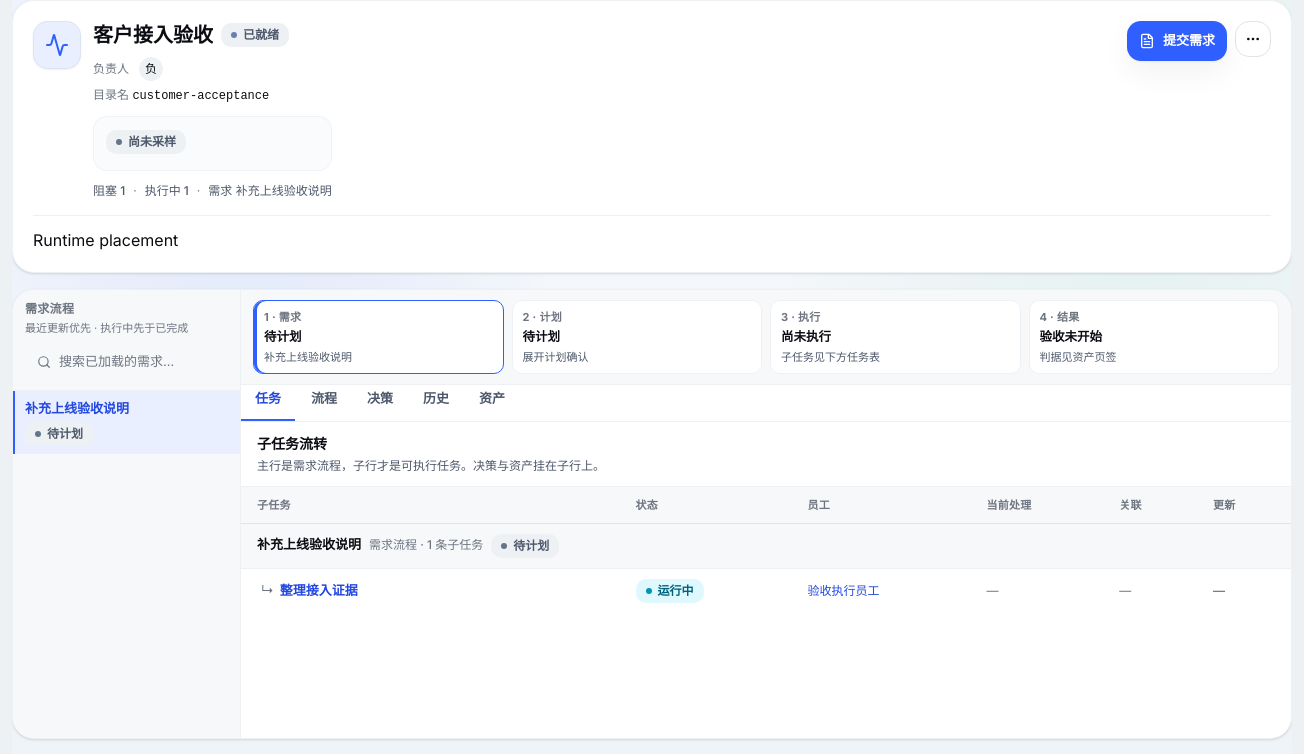
Scenario: ProjectOperationalDetail › keeps plan review read-only in the pipeline plan cell (inbox is the write entry)
Click the button with test id "demand-river-plan" at (637, 337), box [512,300,762,374]
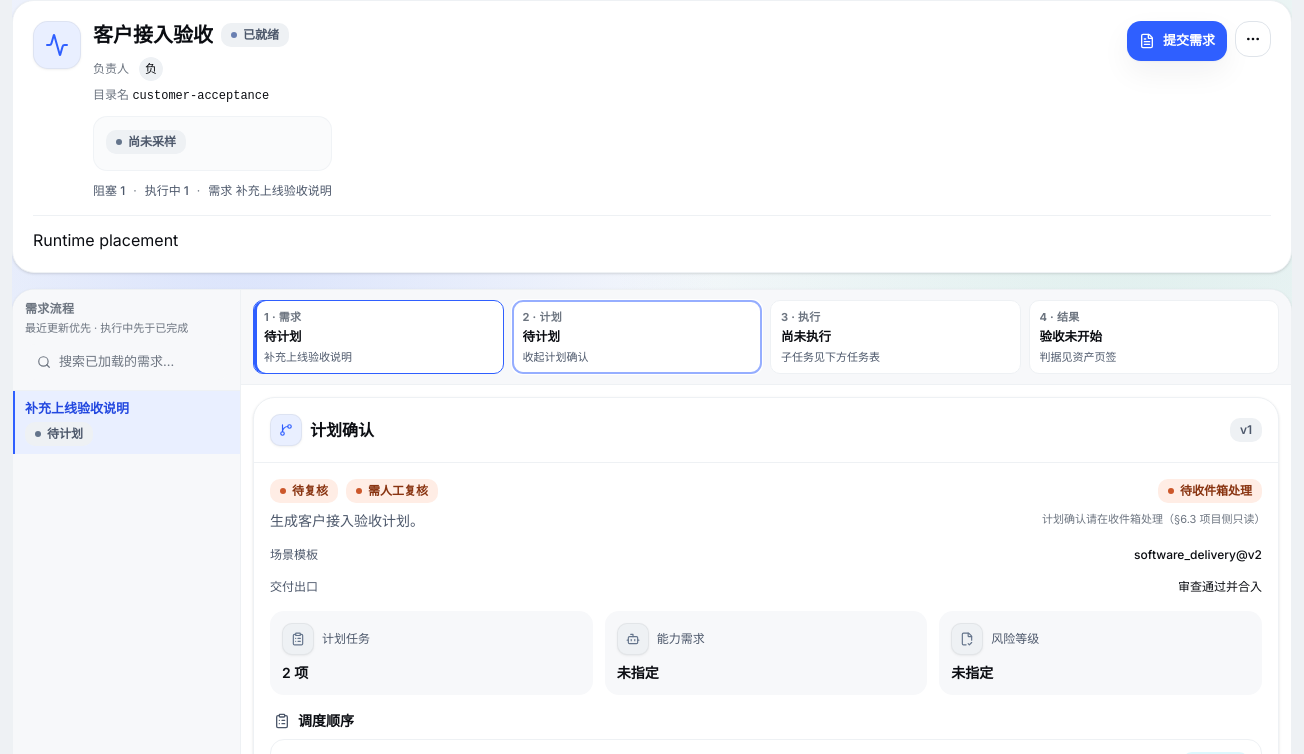
Expected: the element with test id "plan-review-inbox-only" is shown, [1042,479,1262,527]
